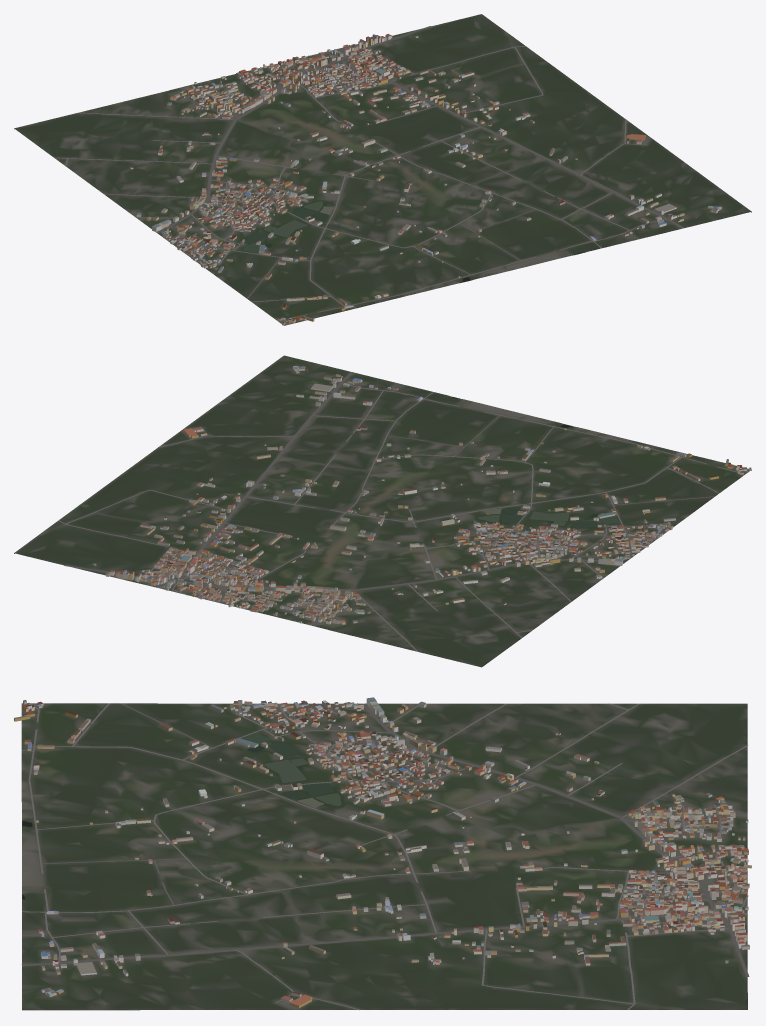
The picture shows the model from 3 angles, top to bottom: view 1: azimuth 30°, elevation 25°; view 2: azimuth 150°, elevation 25°; view 3: azimuth 270°, elevation 25°; orthographic projection. The views are drawn at different scales.
Parts seen in each view (by area): view 1: ground, buildings, roads, water; view 2: ground, buildings, roads, water; view 3: ground, buildings, roads, water.
Part boxes in pixels (x1,y1,x2,y2): ground: (14,14,751,325); buildings: (130,34,721,325); roads: (54,26,684,324); water: (242,201,582,281); ground: (14,355,751,667); buildings: (92,365,751,624); roads: (58,372,748,651); water: (452,397,618,527); ground: (21,703,747,1010); buildings: (14,697,751,1007); roads: (21,703,749,1010); water: (22,733,341,899).
Size of the model in its own units: 1408 by 23.42 by 1425.
